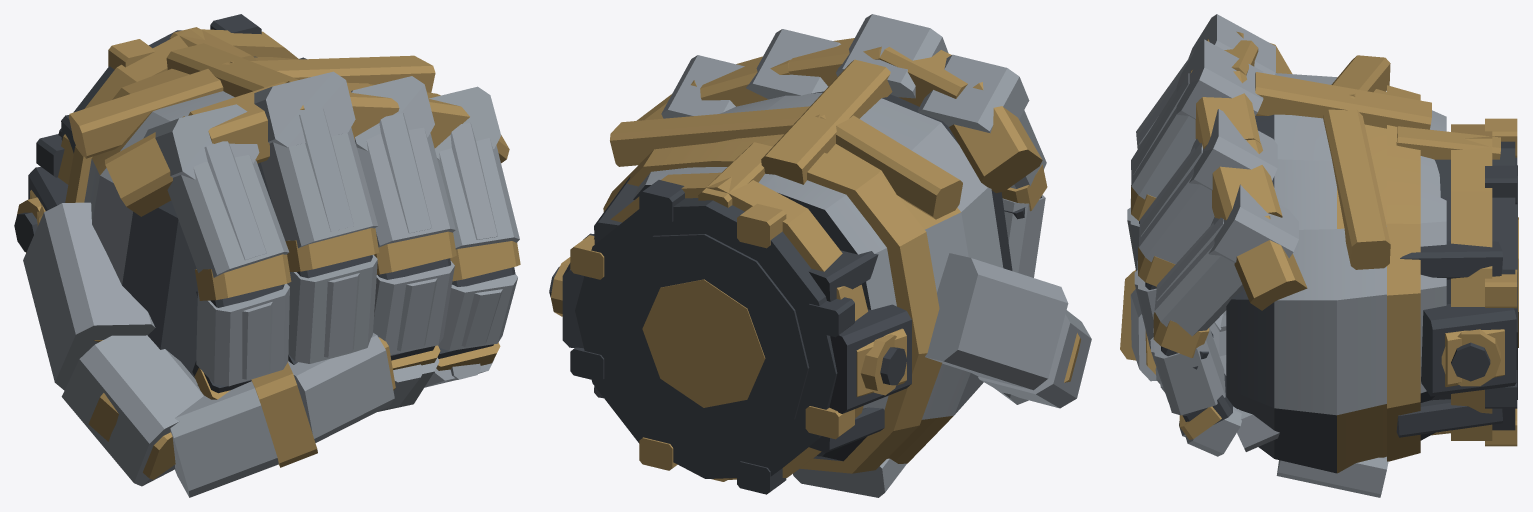
Rendered from so-fist-ication-detached-fist.glb.
3 renders of one model, left to right at view 1: azimuth 30°, elevation 25°; view 2: azimuth 150°, elevation 25°; view 3: azimuth 270°, elevation 25°, orthographic. The views are drawn at different scales.
Visible parts, largest first — view 1: Armored_Fist_Detachable; view 2: Armored_Fist_Detachable; view 3: Armored_Fist_Detachable.
Boxes of the visible parts, box(x1,y1,x2,y2) form: Armored_Fist_Detachable: box(14, 14, 520, 497); Armored_Fist_Detachable: box(549, 14, 1091, 497); Armored_Fist_Detachable: box(1120, 14, 1518, 497).
Size of the model in its own units: 0.5283 by 0.4823 by 0.447.
